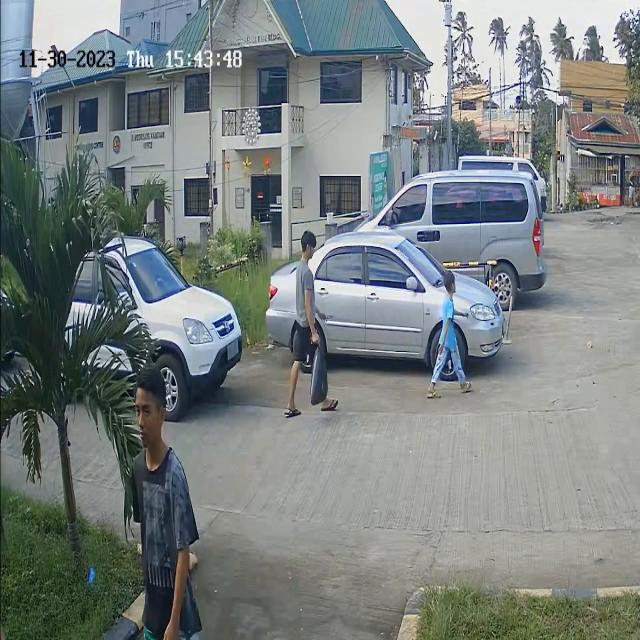garbage: (305, 334, 334, 402)
person: (124, 367, 180, 533), (291, 224, 327, 360), (434, 268, 466, 386)
